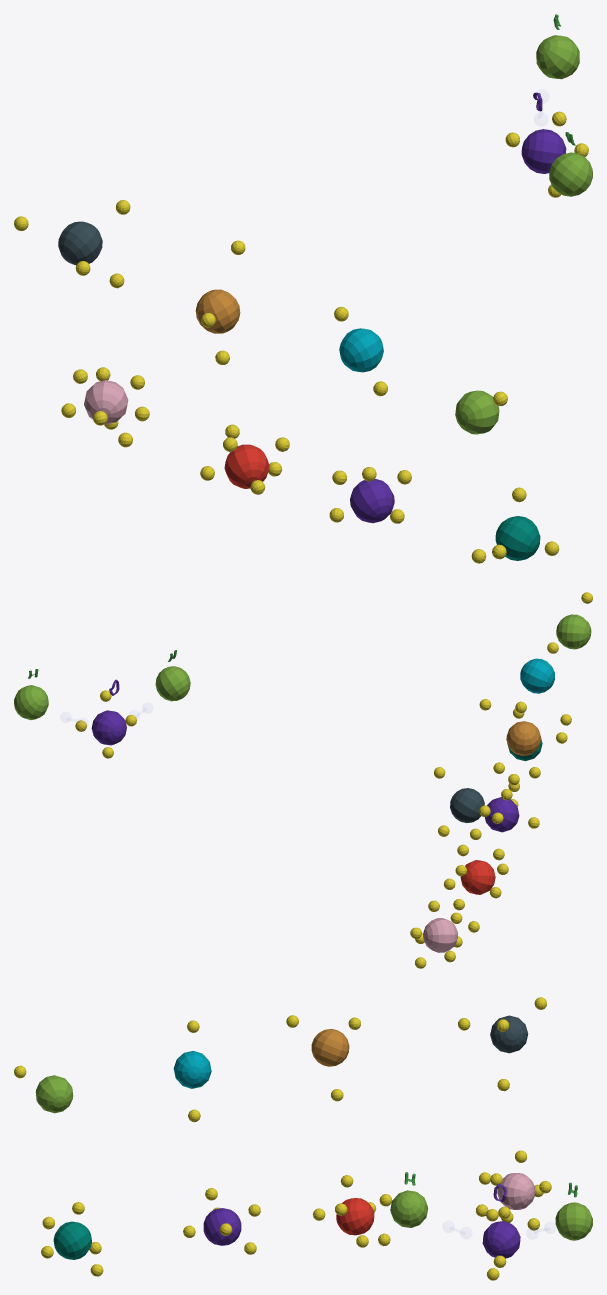
Rendered from Atoms.glb.
The picture shows the model from 3 angles, top to bottom: view 1: azimuth 30°, elevation 25°; view 2: azimuth 150°, elevation 25°; view 3: azimuth 270°, elevation 25°; orthographic projection. The views are drawn at different scales.
Parts seen in each view (by area): view 1: node_MeshObject-639626240-PolyPaper12, node_MeshObject-416396160-PolyPaper12, node_MeshObject-1822273152-PolyPaper17; view 2: node_MeshObject-639626240-PolyPaper12, node_MeshObject-416396160-PolyPaper12, node_MeshObject-1822273152-PolyPaper17; view 3: node_MeshObject-639626240-PolyPaper12, node_MeshObject-416396160-PolyPaper12, node_MeshObject-1822273152-PolyPaper17.
Part boxes in pixels (left/top/right/bottom): node_MeshObject-639626240-PolyPaper12: left=14, top=14, right=592, bottom=555; node_MeshObject-416396160-PolyPaper12: left=61, top=240, right=540, bottom=563; node_MeshObject-1822273152-PolyPaper17: left=58, top=111, right=588, bottom=288; node_MeshObject-639626240-PolyPaper12: left=14, top=592, right=592, bottom=894; node_MeshObject-416396160-PolyPaper12: left=410, top=699, right=571, bottom=968; node_MeshObject-1822273152-PolyPaper17: left=75, top=690, right=484, bottom=836; node_MeshObject-639626240-PolyPaper12: left=14, top=997, right=592, bottom=1258; node_MeshObject-416396160-PolyPaper12: left=42, top=1015, right=551, bottom=1276; node_MeshObject-1822273152-PolyPaper17: left=482, top=1015, right=528, bottom=1280.
Size of the model in its own units: 1.8 by 0.8349 by 1.82.
